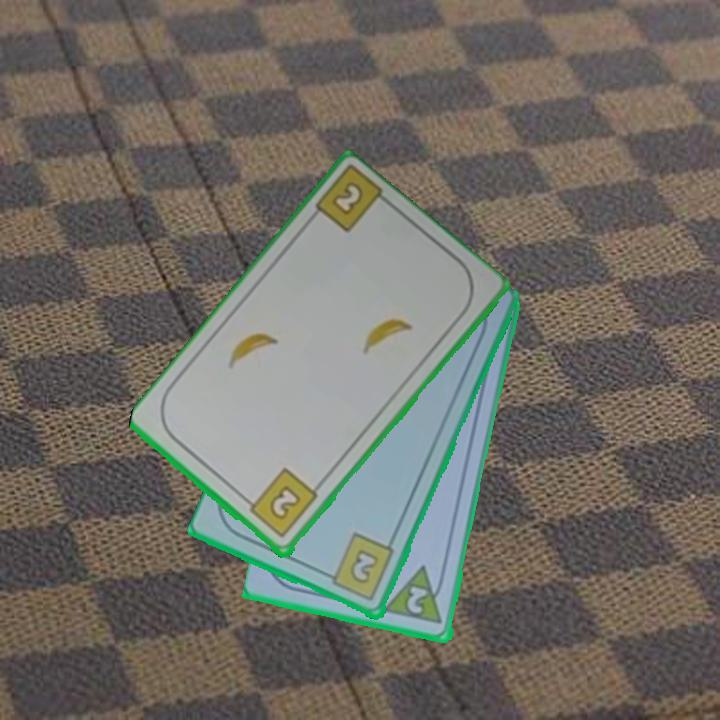2b: (241, 465, 321, 542), (321, 530, 398, 605), (328, 178, 367, 219)
2p: (382, 563, 449, 628)
